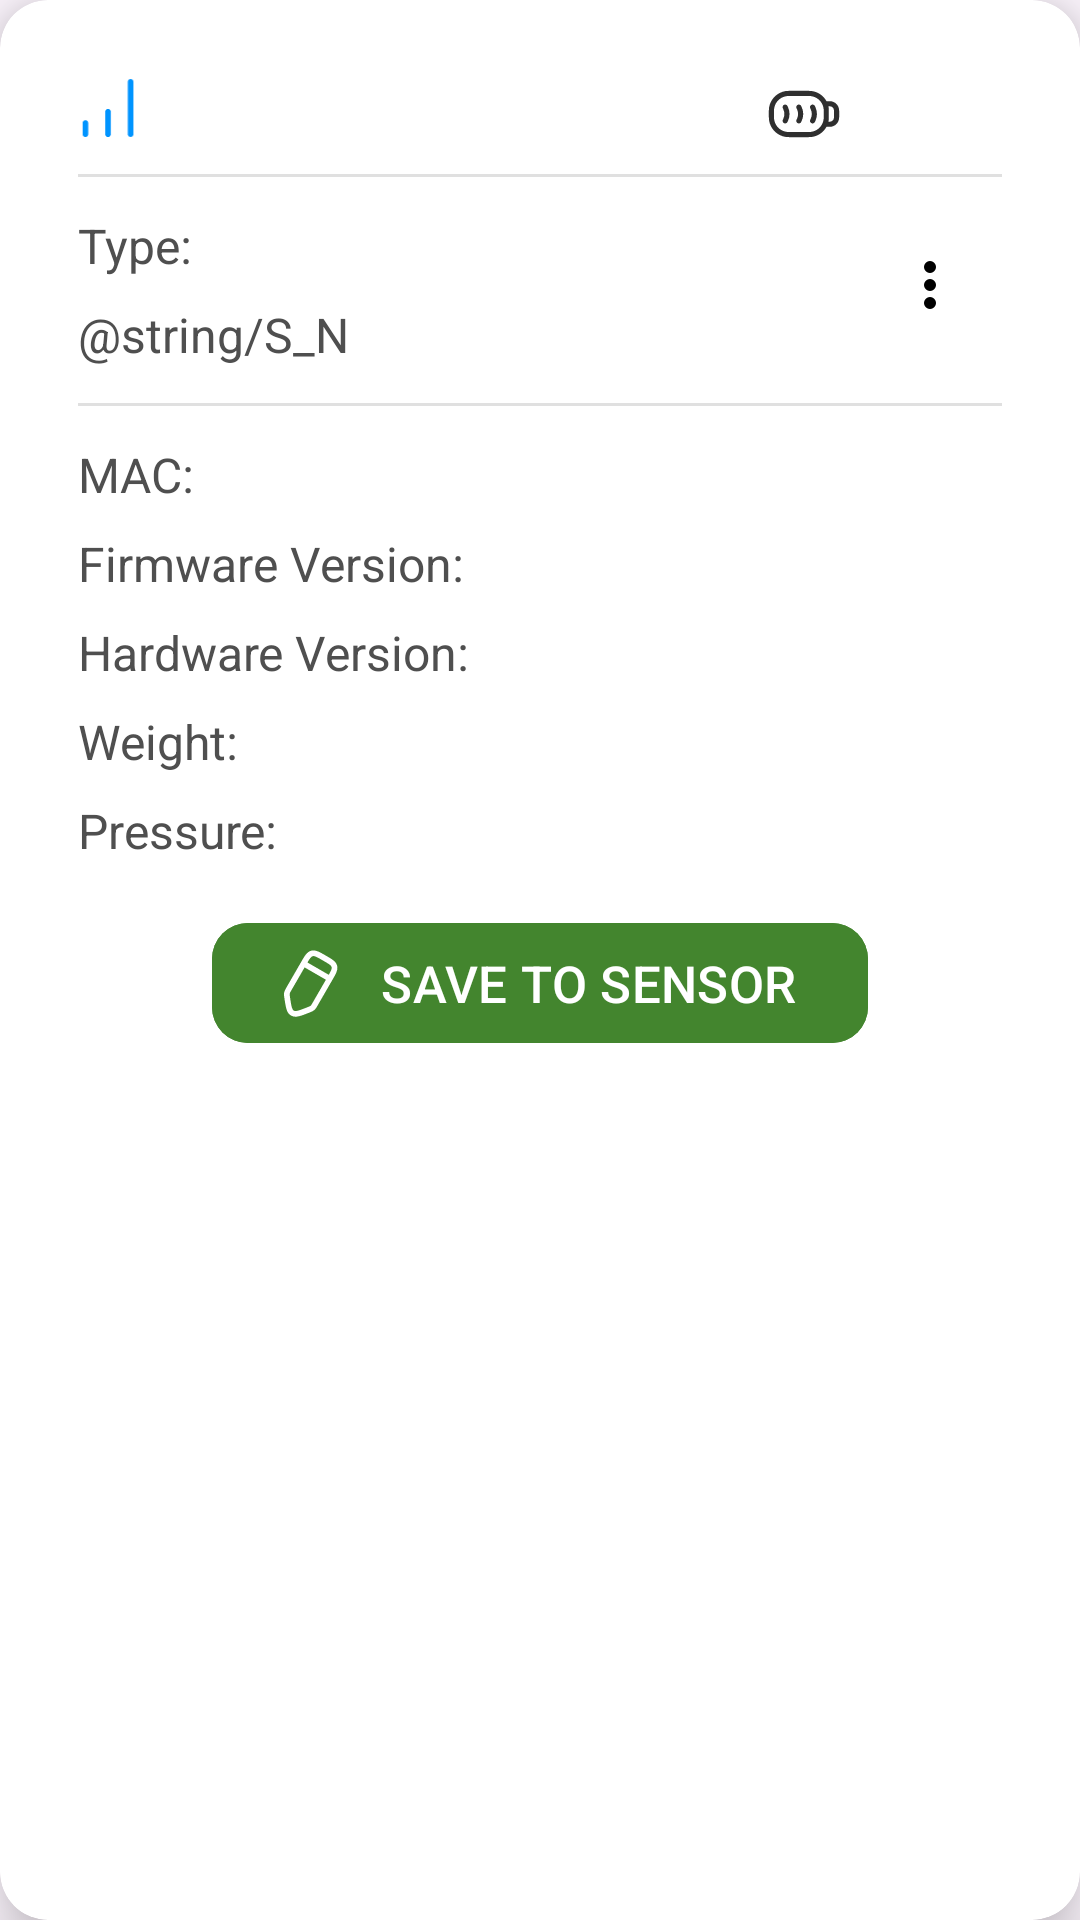

Screen size 1080px x 1920px. Icon name, then its box in pixels as (x1, y1, x2, y2):
Battery: (768, 90, 840, 138)
